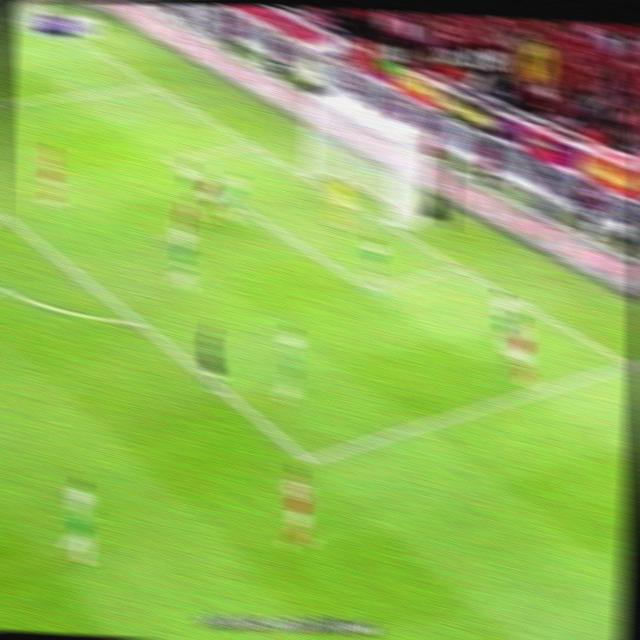bigarea_bottom_inner: (297, 444, 323, 474)
bigarea_bottom_outter: (619, 354, 638, 374)
bigarea_top_outter: (144, 78, 164, 93)
bottom_arc_area_intersection: (124, 308, 151, 335)
smallarea_bottom_inner: (360, 276, 383, 299)
smallarea_bottom_outter: (448, 256, 469, 275)
smallarea_top_inner: (161, 150, 181, 170)
smallarea_top_outter: (245, 138, 264, 153)
